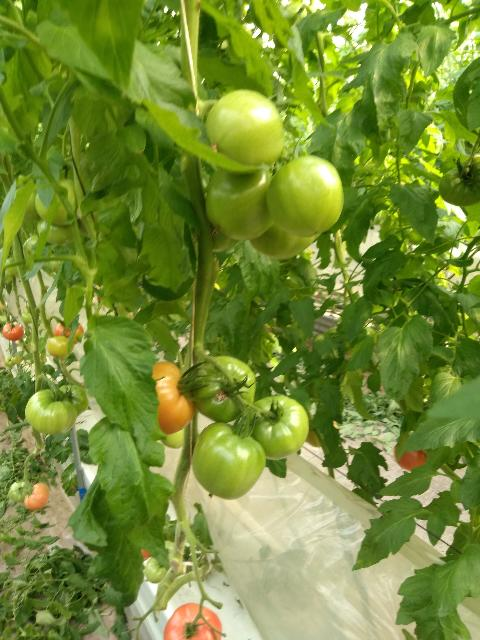b_fully_ripened: (163, 602, 223, 640), (393, 436, 427, 471), (3, 323, 24, 341)
b_green: (266, 154, 345, 237), (206, 89, 285, 169), (191, 422, 267, 500), (206, 164, 276, 240), (243, 395, 309, 460), (193, 355, 256, 423), (250, 223, 320, 259), (25, 388, 77, 434), (439, 155, 480, 207), (56, 384, 89, 418), (47, 335, 74, 359), (145, 557, 167, 583), (8, 481, 32, 503), (161, 428, 185, 450)
b_half_ripened: (153, 361, 196, 434), (54, 319, 83, 345), (24, 482, 49, 510)
